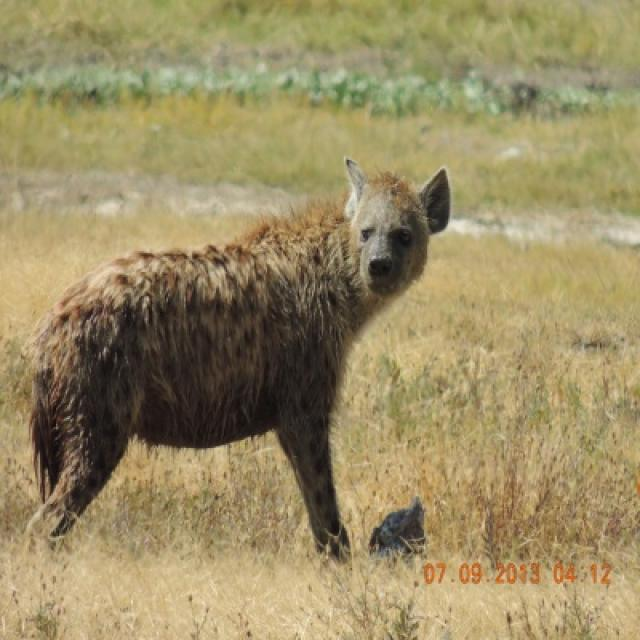hyena: (29, 158, 453, 563)
